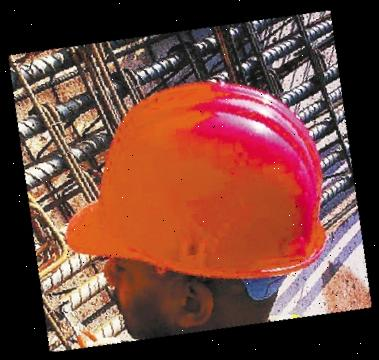helmet: (57, 70, 337, 285)
